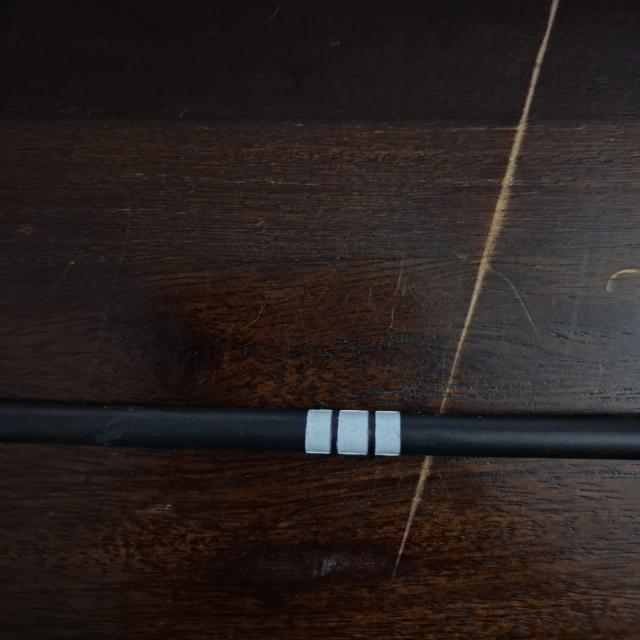white: (303, 408, 406, 457)
